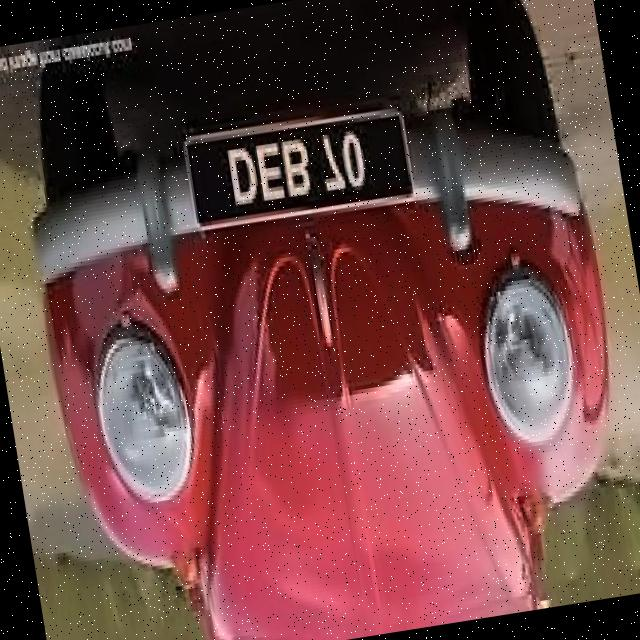License_Plate: (181, 100, 419, 237)
car: (16, 1, 611, 640)
